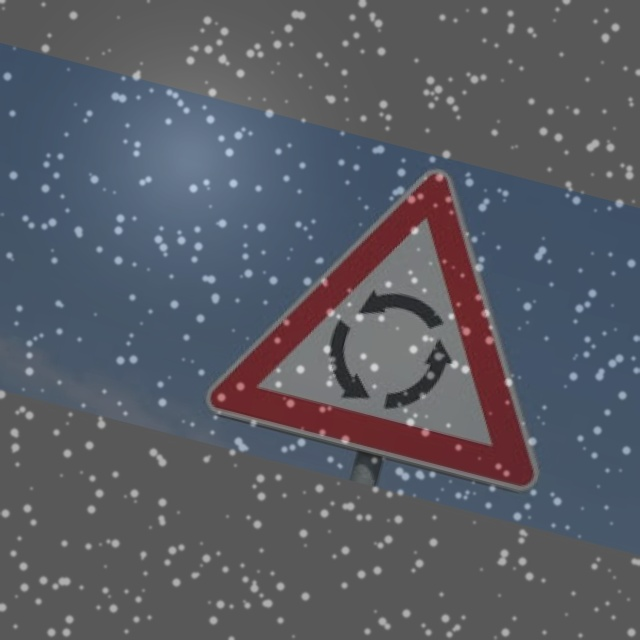Round_About: (209, 124, 594, 490)
